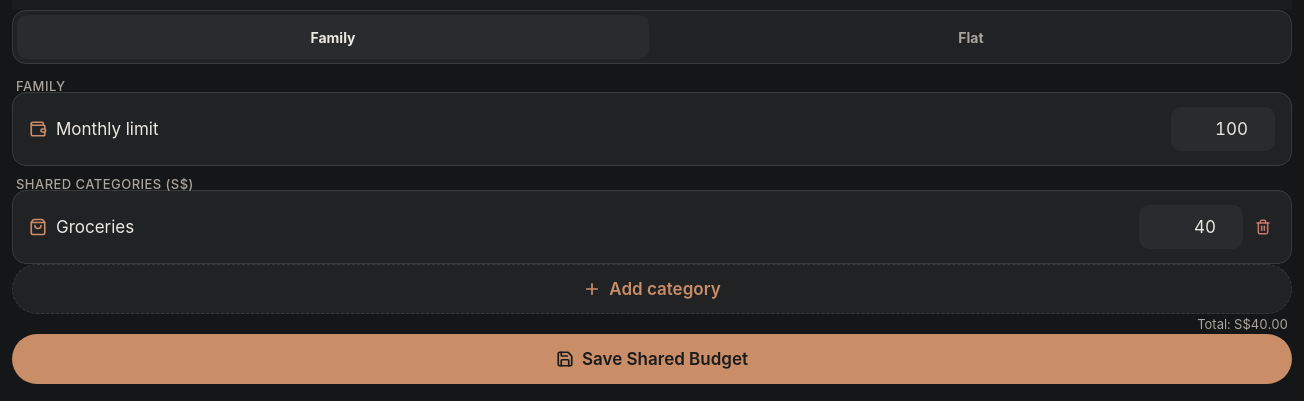
Test: SharedBudgetSettings › offers a budget picker when more than one shared budget exists and opens the picked one
This screenshot has width=1304, height=401.
Click the button "Flat".
click(971, 37)  # box x1=655 y1=15 x2=1287 y2=59
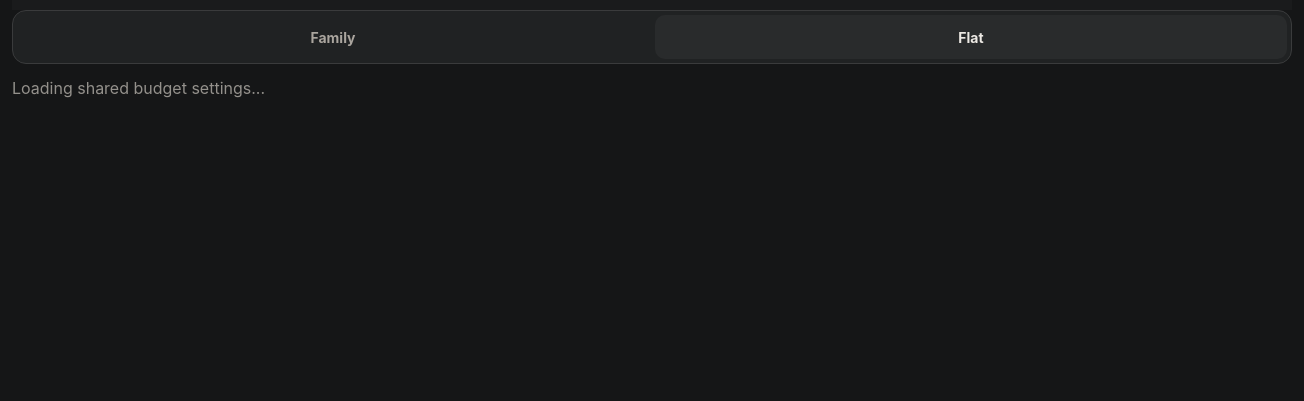
Now the text "Loading shared budget settings" is shown, box x1=12 y1=78 x2=265 y2=98
